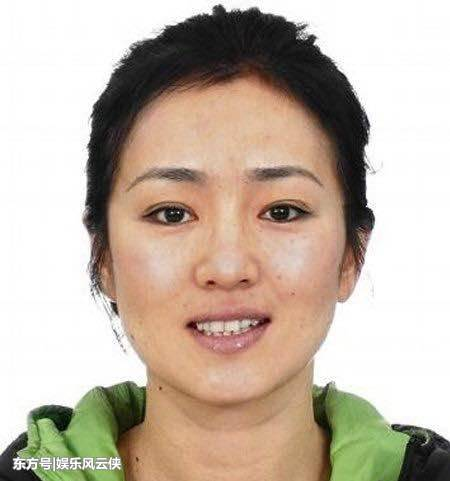unmask: (125, 99, 322, 377)
